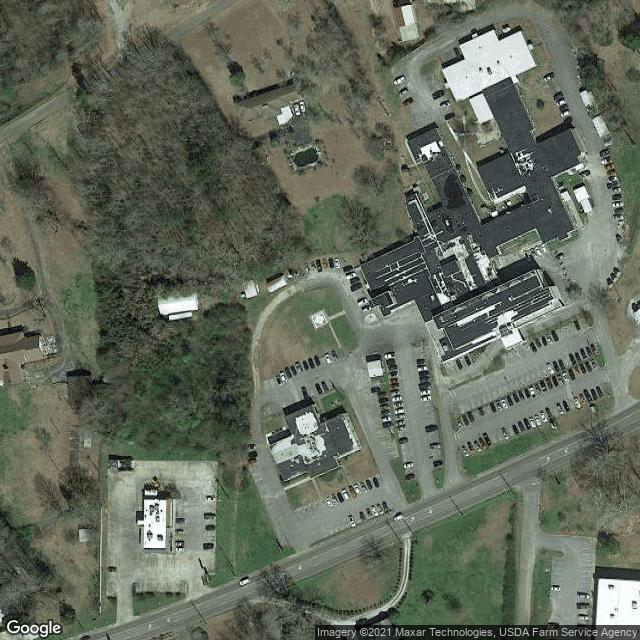Helipad: (308, 307, 330, 330)
